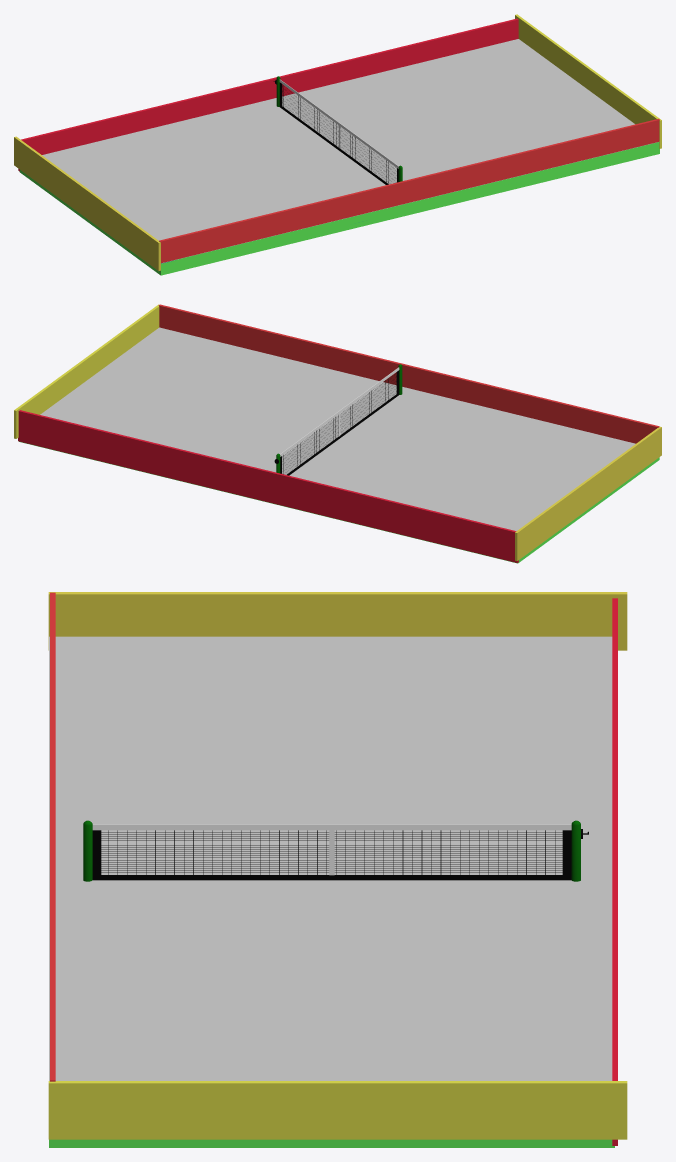
The model's file is Tennis Court.dae.
3 views of the same model, one above another, from view 1: azimuth 30°, elevation 25°; view 2: azimuth 150°, elevation 25°; view 3: azimuth 270°, elevation 25° (orthographic). The views are drawn at different scales.
Parts seen in each view (by area): view 1: Court_Mesh, Cube.001, Cube, Cube.003, Cube.002, Net_Mesh.001; view 2: Court_Mesh, Cube, Cube.001, Cube.003, Cube.002, Net_Mesh.001; view 3: Court_Mesh, Cube.002, Cube.003, Net_Mesh.001, Cube.001, Cube.
Boxes of the visible parts, left/top/right/bottom form: Court_Mesh: left=19, top=39, right=659, bottom=275; Cube.001: left=159, top=119, right=659, bottom=263; Cube: left=18, top=18, right=518, bottom=171; Cube.003: left=14, top=136, right=160, bottom=270; Cube.002: left=515, top=14, right=661, bottom=148; Net_Mesh.001: left=273, top=76, right=402, bottom=184; Court_Mesh: left=19, top=327, right=659, bottom=563; Cube: left=18, top=410, right=518, bottom=562; Cube.001: left=158, top=304, right=659, bottom=443; Cube.003: left=515, top=426, right=661, bottom=560; Cube.002: left=14, top=304, right=159, bottom=438; Net_Mesh.001: left=274, top=364, right=402, bottom=475; Court_Mesh: left=49, top=636, right=614, bottom=1147; Cube.002: left=48, top=1081, right=627, bottom=1139; Cube.003: left=48, top=592, right=627, bottom=650; Net_Mesh.001: left=83, top=820, right=588, bottom=881; Cube.001: left=50, top=592, right=55, bottom=1081; Cube: left=612, top=598, right=617, bottom=1145.
Bounding box in the file's own units: 14.6 × 7.27 × 1.16.
